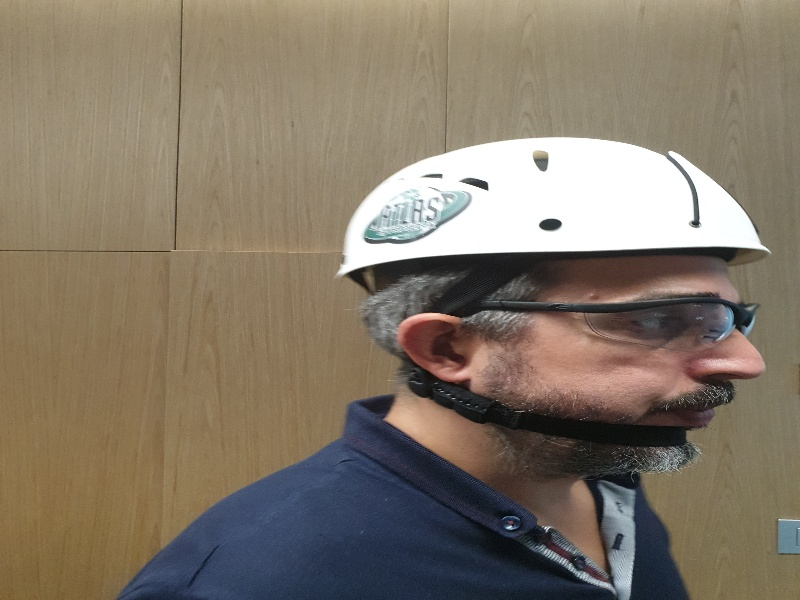Baret: (337, 135, 770, 280)
Gozluk: (440, 293, 762, 358)
